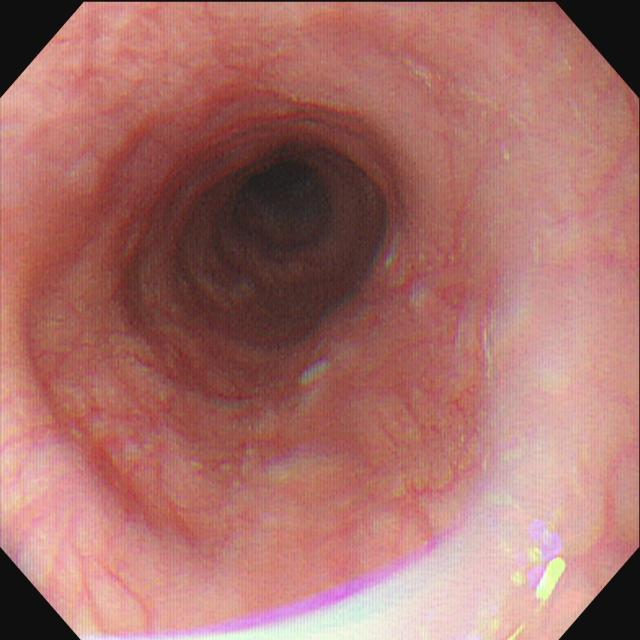E: (221, 151, 341, 261)
U: (536, 554, 571, 608)
